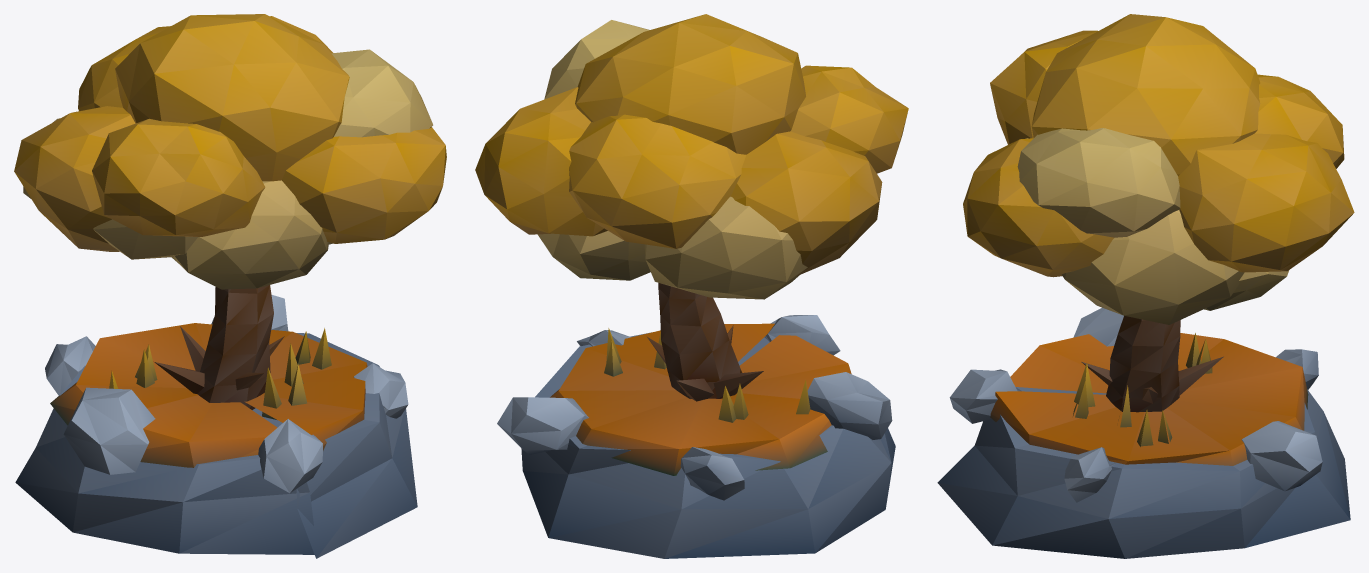
Rendered from pohon_oak_autumn_303245.glb.
3 renders of one model, left to right at view 1: azimuth 30°, elevation 25°; view 2: azimuth 150°, elevation 25°; view 3: azimuth 270°, elevation 25°, orthographic. The views are drawn at different scales.
Parts seen in each view (by area): view 1: Dedaunan_Kanopi, Pulau_Batu_Tepi_Sungai, Batang_Dan_Akar; view 2: Dedaunan_Kanopi, Pulau_Batu_Tepi_Sungai, Batang_Dan_Akar; view 3: Dedaunan_Kanopi, Pulau_Batu_Tepi_Sungai, Batang_Dan_Akar.
Boxes of the visible parts, <box> form: Dedaunan_Kanopi: <box>14,14,446,289</box>; Pulau_Batu_Tepi_Sungai: <box>15,295,417,558</box>; Batang_Dan_Akar: <box>154,285,284,409</box>; Dedaunan_Kanopi: <box>475,14,908,299</box>; Pulau_Batu_Tepi_Sungai: <box>497,315,895,558</box>; Batang_Dan_Akar: <box>647,283,763,401</box>; Dedaunan_Kanopi: <box>963,14,1354,324</box>; Pulau_Batu_Tepi_Sungai: <box>937,307,1350,558</box>; Batang_Dan_Akar: <box>1081,315,1223,412</box>.
Size of the model in its own units: 5.49 by 6.76 by 5.57.
